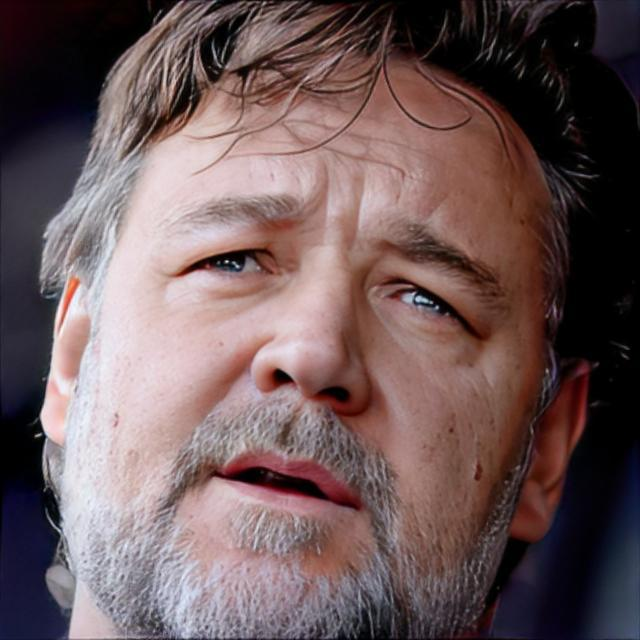sad: (61, 49, 553, 640)
